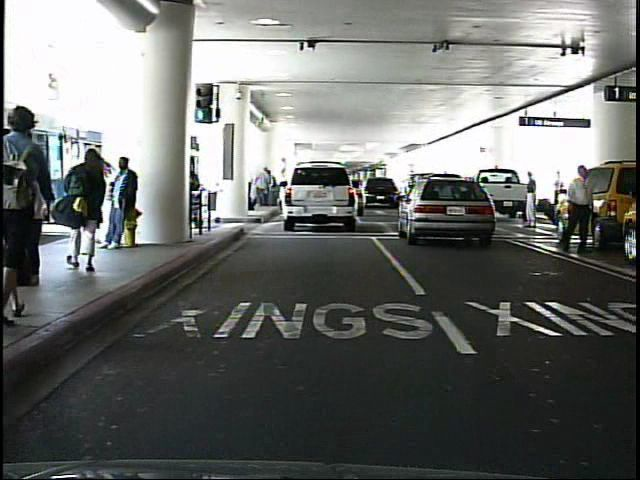person: (2, 108, 61, 332), (62, 139, 112, 273), (104, 153, 141, 251), (563, 159, 597, 257), (522, 170, 541, 230), (556, 169, 565, 211)
